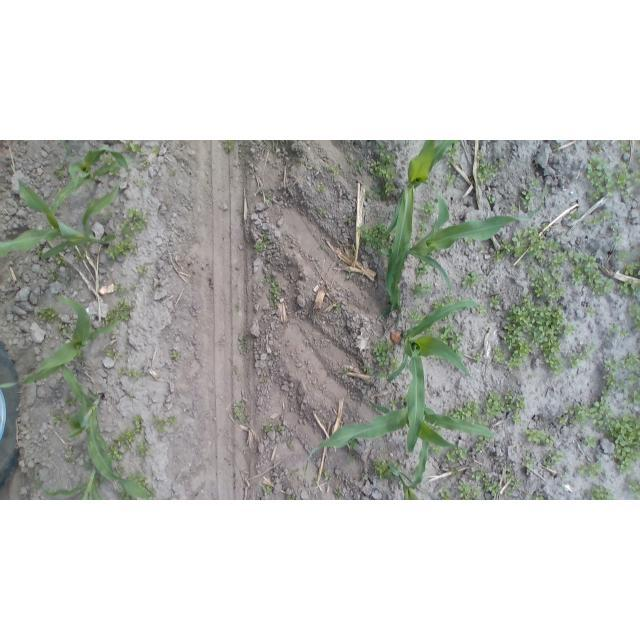Maize: (376, 174, 548, 301), (385, 300, 478, 457), (305, 399, 496, 474), (383, 142, 454, 317), (59, 365, 150, 498), (0, 293, 120, 387), (1, 171, 121, 262), (51, 143, 134, 216), (390, 441, 434, 500), (40, 467, 104, 499), (374, 141, 401, 156), (60, 140, 76, 158)
Weeds: (502, 296, 574, 376), (559, 358, 618, 425), (606, 411, 640, 475), (510, 227, 563, 262), (568, 251, 612, 293), (363, 153, 397, 204), (484, 389, 525, 425), (528, 262, 565, 300), (359, 222, 391, 252), (586, 154, 612, 187), (120, 208, 149, 237), (569, 342, 595, 369), (446, 399, 479, 419), (476, 161, 504, 184), (105, 300, 131, 324), (104, 234, 132, 256), (524, 428, 556, 446), (504, 464, 520, 499), (373, 340, 394, 366), (604, 322, 631, 341), (584, 209, 612, 226), (616, 169, 633, 196), (254, 184, 274, 206), (583, 485, 613, 499), (111, 281, 137, 297), (457, 480, 477, 500), (322, 163, 343, 182), (50, 408, 71, 427), (542, 450, 563, 468), (446, 446, 469, 462), (483, 478, 502, 497), (521, 187, 536, 211), (622, 352, 640, 372), (619, 279, 638, 297), (104, 345, 124, 362), (62, 444, 78, 465), (462, 272, 482, 288), (412, 281, 432, 297), (56, 320, 71, 341), (373, 461, 391, 478), (38, 306, 57, 322), (230, 364, 246, 382), (72, 249, 92, 263), (127, 472, 147, 486), (475, 437, 491, 454), (254, 235, 269, 253), (46, 266, 61, 284), (523, 451, 538, 469), (233, 400, 245, 422), (118, 366, 140, 378), (627, 479, 640, 499), (346, 157, 362, 173), (449, 143, 464, 160), (500, 239, 515, 255), (56, 163, 68, 183), (263, 273, 279, 288), (374, 367, 391, 381), (124, 140, 141, 154), (153, 416, 166, 434), (269, 287, 280, 308), (416, 263, 428, 282), (65, 395, 80, 410), (470, 467, 485, 482), (622, 261, 638, 275), (133, 414, 144, 434), (123, 429, 135, 447), (587, 461, 601, 476), (625, 373, 640, 387), (262, 483, 275, 499), (440, 324, 452, 341), (361, 363, 375, 377), (109, 445, 122, 460), (137, 441, 150, 456), (529, 177, 544, 190), (256, 368, 268, 384), (422, 202, 436, 215), (454, 342, 467, 356), (628, 301, 638, 319), (494, 348, 506, 363), (167, 411, 178, 427), (114, 465, 127, 478), (626, 390, 638, 404), (53, 254, 67, 266), (346, 210, 356, 226), (591, 141, 607, 151), (417, 219, 427, 235), (617, 249, 629, 262), (168, 166, 180, 179), (585, 305, 597, 318), (634, 306, 640, 332), (577, 464, 589, 477), (471, 351, 483, 364), (389, 358, 400, 372), (118, 489, 132, 500), (606, 179, 615, 196), (618, 140, 630, 152), (234, 299, 243, 315), (114, 433, 125, 446), (586, 435, 597, 448), (135, 179, 148, 190), (290, 468, 301, 481), (170, 349, 181, 362), (440, 489, 453, 500), (490, 295, 501, 308), (349, 438, 359, 452), (35, 245, 44, 260), (475, 303, 487, 314), (340, 367, 352, 378), (315, 181, 326, 193), (293, 153, 304, 165), (592, 187, 602, 200), (411, 310, 424, 320), (237, 338, 247, 351), (277, 421, 286, 435), (417, 300, 428, 311), (446, 173, 457, 184), (494, 250, 504, 262), (508, 203, 518, 215), (334, 300, 343, 313), (344, 267, 353, 280), (534, 491, 547, 500), (476, 150, 485, 163), (347, 455, 357, 466), (433, 445, 444, 455), (140, 161, 152, 170), (446, 158, 455, 170), (443, 295, 456, 303), (450, 465, 460, 475), (617, 383, 628, 392), (268, 353, 277, 364), (433, 301, 444, 310), (357, 471, 365, 483), (285, 493, 298, 500), (225, 140, 234, 150), (571, 209, 580, 219), (264, 423, 274, 432), (399, 393, 407, 404), (126, 391, 134, 402), (515, 260, 526, 268), (430, 323, 437, 335), (542, 222, 551, 231), (322, 468, 330, 478), (487, 194, 495, 204), (306, 164, 317, 171), (138, 266, 146, 275), (465, 238, 474, 246), (524, 492, 533, 500), (390, 397, 397, 407), (154, 145, 161, 155), (287, 437, 294, 447), (334, 490, 342, 498), (477, 243, 485, 251), (318, 207, 326, 214), (162, 496, 175, 500), (351, 246, 356, 254)
